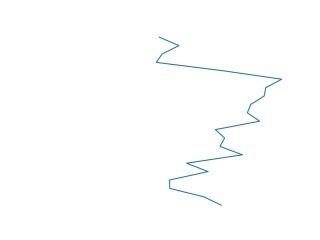floodPlain: (155, 36, 284, 209)
